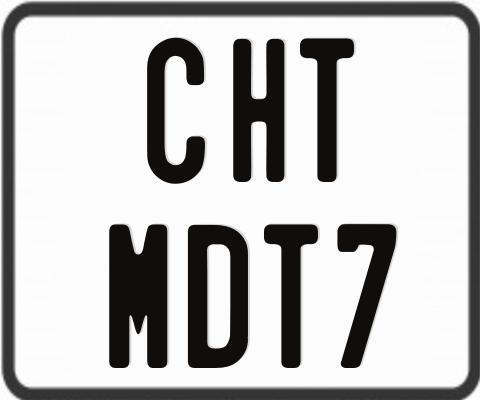7: (336, 221, 396, 368)
C: (146, 37, 204, 189)
D: (187, 222, 249, 366)
H: (231, 38, 286, 183)
M: (109, 221, 167, 367)
T: (298, 35, 357, 179), (263, 221, 317, 366)
